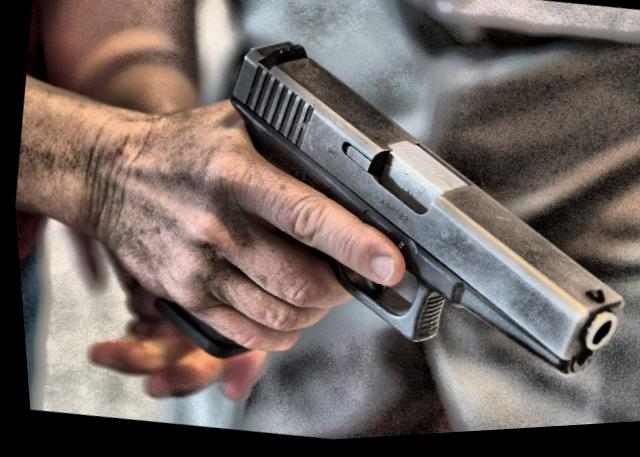pistol: (116, 6, 640, 429)
